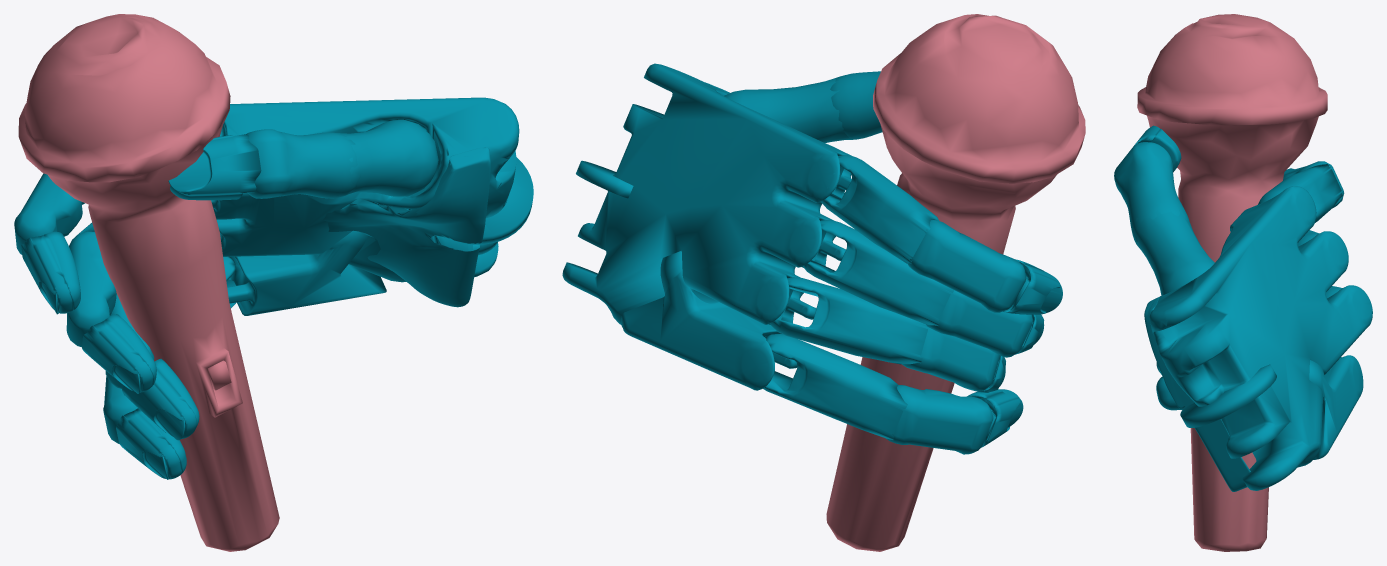
3 views of the same model, side by side, from view 1: azimuth 30°, elevation 25°; view 2: azimuth 150°, elevation 25°; view 3: azimuth 270°, elevation 25° (orthographic). The views are drawn at different scales.
Visible parts, largest first — view 1: world; view 2: world; view 3: world.
Part boxes in pixels (bbox=[...]): world: bbox=[14, 14, 533, 551]; world: bbox=[562, 14, 1085, 551]; world: bbox=[1114, 14, 1372, 551].
Bounding box in the file's own units: 0.1889 × 0.2 × 0.0974.
